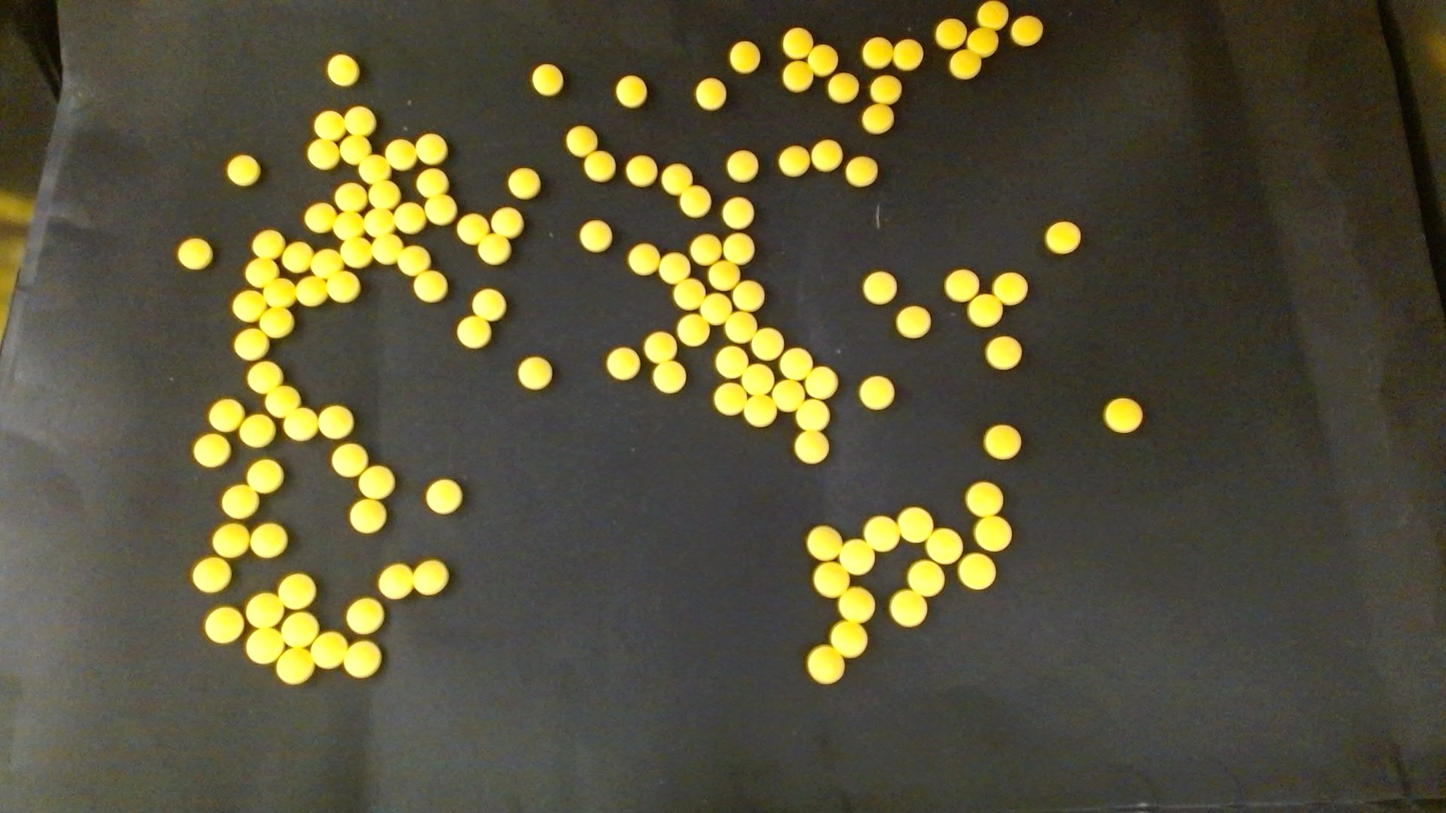Circle: (191, 556, 231, 595), (203, 607, 243, 644), (424, 478, 462, 516), (249, 522, 288, 559), (276, 648, 315, 685), (958, 553, 996, 590), (212, 522, 250, 559), (830, 620, 868, 657), (973, 515, 1011, 552), (807, 646, 844, 684), (1104, 397, 1143, 433), (346, 598, 384, 634), (278, 573, 316, 609), (220, 483, 258, 519), (349, 498, 387, 534), (412, 559, 449, 595), (246, 592, 282, 629), (813, 561, 850, 597), (310, 632, 347, 668), (838, 587, 875, 623), (343, 641, 380, 677), (897, 506, 934, 542), (246, 458, 283, 494), (984, 424, 1021, 460), (890, 590, 926, 626), (966, 481, 1002, 517), (281, 612, 318, 647), (193, 433, 230, 468), (377, 564, 413, 599), (907, 559, 942, 595), (838, 539, 874, 574), (246, 629, 282, 664), (239, 413, 275, 448), (208, 397, 244, 432), (517, 356, 553, 391), (331, 443, 368, 477), (985, 336, 1022, 370), (926, 529, 961, 564), (863, 516, 898, 551), (806, 525, 841, 560), (317, 405, 353, 439), (233, 327, 269, 361), (895, 305, 931, 339), (859, 376, 895, 410), (176, 237, 213, 270), (795, 429, 829, 464), (455, 315, 490, 349), (1044, 221, 1080, 254), (311, 244, 344, 280), (795, 398, 829, 432), (862, 271, 896, 305), (283, 408, 318, 441), (358, 465, 393, 498), (325, 271, 361, 303), (248, 360, 282, 393), (266, 385, 300, 418), (606, 347, 640, 380), (944, 269, 978, 302), (413, 270, 447, 303), (721, 196, 754, 230), (259, 306, 294, 338), (993, 272, 1028, 304), (651, 361, 686, 393), (743, 394, 776, 427), (676, 313, 709, 346), (579, 219, 612, 252), (334, 181, 368, 213), (472, 288, 506, 320), (477, 233, 511, 265), (226, 154, 260, 186), (326, 53, 358, 87), (531, 62, 563, 96), (340, 235, 373, 267), (673, 277, 705, 310), (657, 252, 690, 284), (393, 201, 426, 233), (782, 60, 814, 93), (627, 242, 659, 275), (869, 73, 902, 105), (363, 206, 396, 238), (490, 206, 523, 238), (750, 328, 783, 360), (807, 44, 839, 77), (969, 294, 1002, 326), (415, 132, 447, 165), (725, 150, 758, 182), (507, 167, 540, 199), (615, 75, 648, 107), (416, 166, 450, 197), (294, 275, 328, 306), (722, 232, 754, 264), (689, 233, 721, 265), (660, 163, 692, 195), (679, 185, 711, 217), (714, 382, 746, 414), (732, 279, 764, 311), (694, 78, 726, 110), (369, 232, 402, 263), (232, 291, 265, 322), (740, 363, 773, 394), (644, 331, 677, 362), (779, 348, 812, 379), (384, 138, 417, 169), (780, 27, 813, 58), (244, 257, 278, 287), (358, 154, 392, 184), (339, 133, 371, 164), (699, 293, 731, 324), (773, 379, 805, 410), (725, 311, 756, 343), (397, 245, 429, 276), (457, 213, 489, 244), (715, 345, 747, 376), (307, 138, 339, 169), (313, 108, 345, 139), (776, 145, 808, 176), (369, 178, 401, 209), (861, 103, 893, 134), (845, 156, 877, 187), (263, 277, 296, 307), (706, 260, 739, 290), (625, 155, 656, 186), (425, 194, 456, 225), (935, 17, 966, 48), (862, 37, 893, 68), (344, 105, 375, 136), (728, 41, 759, 72), (334, 209, 366, 239), (811, 139, 841, 171), (304, 202, 336, 232), (949, 48, 981, 78), (566, 125, 596, 157), (251, 229, 284, 258), (584, 151, 615, 181), (804, 367, 835, 397), (827, 72, 858, 102), (1011, 15, 1042, 45), (280, 242, 312, 271), (892, 39, 922, 69), (967, 28, 998, 56), (976, 2, 1007, 29)
